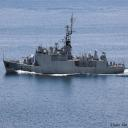Fragata: (3, 17, 127, 77)
